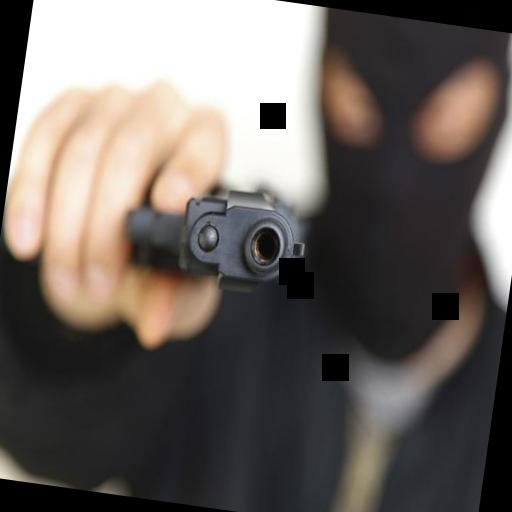Handgun: (112, 159, 320, 311)
